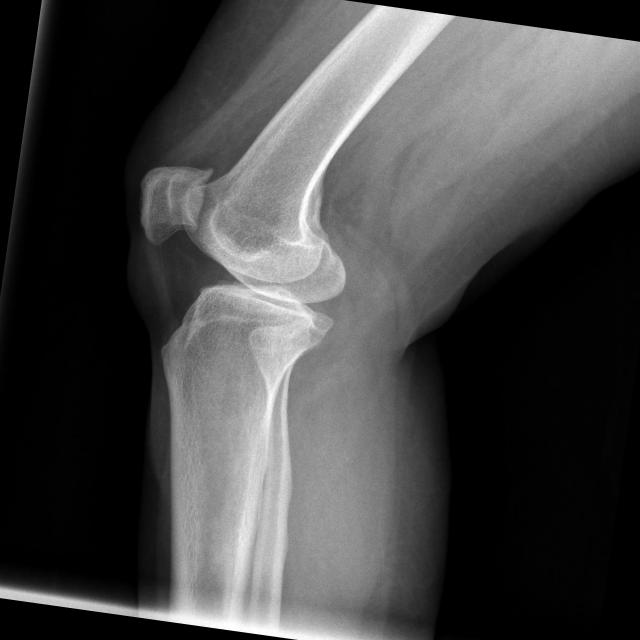Knee: (119, 154, 364, 386)
